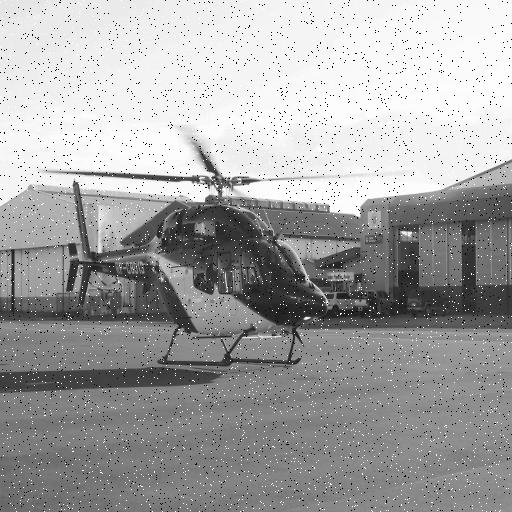helicopter: (54, 133, 322, 376)
